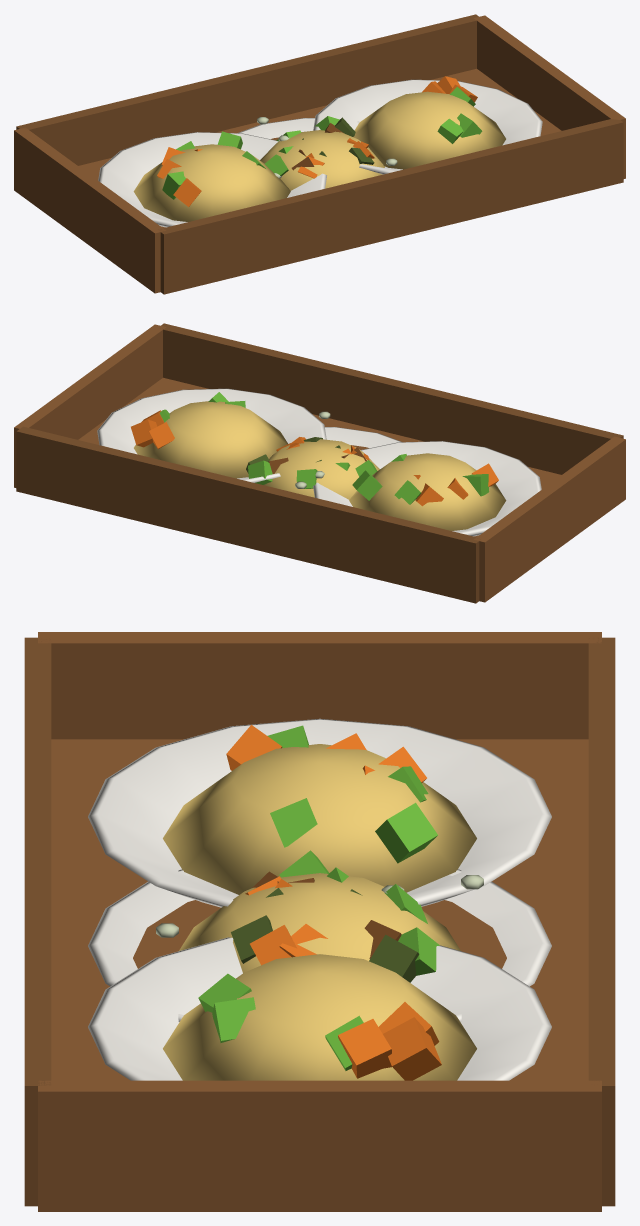
File: Dish_FriedRice.fbx
3 views of the same model, one above another, from view 1: azimuth 30°, elevation 25°; view 2: azimuth 150°, elevation 25°; view 3: azimuth 270°, elevation 25° (orthographic). The views are drawn at different scales.
Parts seen in each view (by area): view 1: Dish_FriedRice__Stack, Dish_FriedRice, Dish_FriedRice__Rotten; view 2: Dish_FriedRice__Stack, Dish_FriedRice, Dish_FriedRice__Rotten; view 3: Dish_FriedRice__Stack, Dish_FriedRice, Dish_FriedRice__Rotten.
Boxes of the visible parts, x1,y1,x2,y2 form: Dish_FriedRice__Stack: [14, 14, 625, 294]; Dish_FriedRice: [237, 116, 385, 190]; Dish_FriedRice__Rotten: [257, 117, 397, 178]; Dish_FriedRice__Stack: [14, 323, 625, 603]; Dish_FriedRice: [248, 427, 402, 499]; Dish_FriedRice__Rotten: [246, 411, 366, 488]; Dish_FriedRice__Stack: [24, 632, 615, 1211]; Dish_FriedRice: [88, 850, 551, 1021]; Dish_FriedRice__Rotten: [156, 871, 483, 982].
Bounding box in the file's own units: 0.328 × 0.04 × 0.178.
